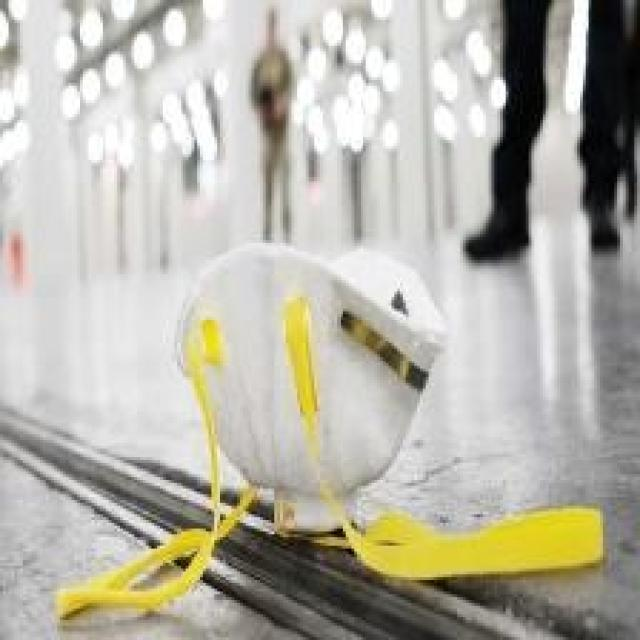Mask: (119, 181, 524, 640)
